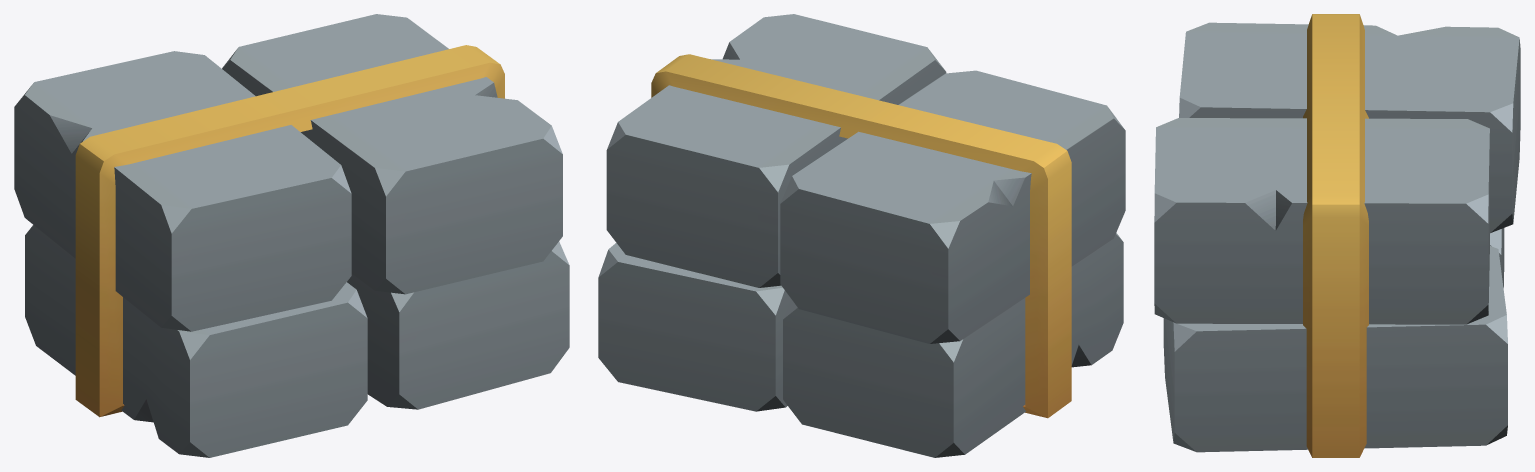
Rendered from stone_bricks_stack_small.glb.
3 views of the same model, side by side, from view 1: azimuth 30°, elevation 25°; view 2: azimuth 150°, elevation 25°; view 3: azimuth 270°, elevation 25° (orthographic). The views are drawn at different scales.
Visible parts, largest first — view 1: Stone_Bricks_Stack_Small; view 2: Stone_Bricks_Stack_Small; view 3: Stone_Bricks_Stack_Small.
Part boxes in pixels (x1,y1,x2,y2): Stone_Bricks_Stack_Small: (14,14,569,457); Stone_Bricks_Stack_Small: (598,14,1125,457); Stone_Bricks_Stack_Small: (1154,14,1520,457).
Size of the model in its own units: 1.04 by 0.6332 by 0.8222.
1 material, 1 textured.
